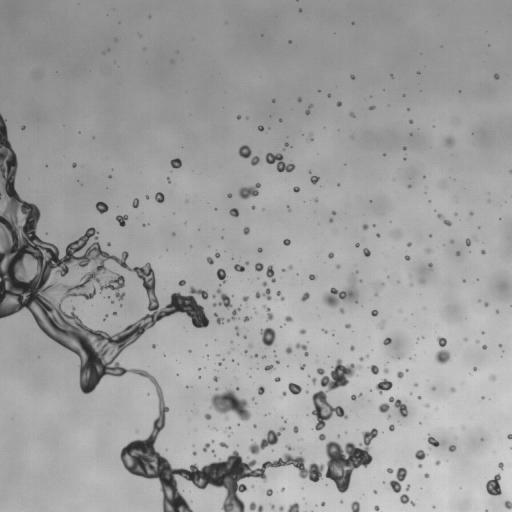droplet: (209, 389, 250, 420), (322, 274, 357, 307), (213, 288, 232, 308), (238, 183, 260, 199), (485, 474, 501, 495), (260, 327, 275, 346), (375, 379, 392, 394), (255, 289, 271, 300), (238, 145, 251, 158), (288, 382, 301, 394), (400, 494, 414, 505), (96, 201, 108, 213), (217, 268, 226, 283), (427, 435, 439, 446), (249, 502, 263, 511), (116, 215, 127, 226), (414, 450, 426, 460), (170, 158, 181, 168), (287, 502, 299, 511), (444, 136, 454, 146), (214, 313, 223, 324), (378, 403, 389, 412), (155, 192, 164, 202), (229, 208, 238, 217), (369, 365, 378, 374), (351, 501, 359, 511), (251, 156, 259, 165), (255, 262, 263, 271), (301, 292, 309, 301), (234, 264, 244, 271), (310, 176, 318, 184), (383, 337, 391, 345), (132, 198, 139, 207), (258, 385, 265, 394), (504, 500, 511, 509), (264, 365, 274, 371), (363, 248, 370, 256), (285, 346, 292, 354), (203, 443, 210, 451), (206, 257, 213, 264), (318, 433, 325, 440), (293, 186, 300, 192), (243, 227, 249, 234), (394, 231, 400, 238), (283, 239, 290, 245), (309, 274, 316, 280), (371, 310, 378, 316), (285, 316, 292, 322), (397, 371, 403, 378), (204, 413, 211, 419), (448, 445, 455, 451), (219, 442, 227, 447), (266, 489, 272, 495), (178, 280, 185, 285), (243, 316, 250, 321), (311, 377, 316, 384), (389, 424, 394, 431), (494, 73, 499, 79), (258, 125, 263, 131), (362, 224, 368, 229), (328, 252, 333, 258), (404, 255, 410, 260), (293, 426, 298, 432), (286, 445, 292, 450), (498, 462, 503, 468), (387, 468, 393, 473), (374, 505, 379, 511), (466, 239, 470, 246), (336, 101, 341, 106), (425, 248, 430, 253), (243, 296, 248, 301), (300, 329, 305, 334), (300, 364, 305, 369), (490, 375, 495, 380), (213, 376, 218, 381), (435, 460, 440, 465), (405, 485, 410, 490), (215, 252, 219, 258), (379, 322, 383, 328), (274, 377, 280, 381), (350, 74, 354, 79), (350, 112, 354, 117), (21, 125, 25, 130), (428, 263, 432, 268), (262, 281, 266, 286), (340, 308, 344, 313), (103, 315, 107, 320), (345, 324, 350, 328), (322, 329, 327, 333), (350, 345, 354, 350), (384, 368, 388, 373), (451, 387, 455, 392), (507, 434, 511, 439), (424, 473, 429, 477), (279, 506, 283, 511), (72, 163, 76, 167), (355, 243, 359, 247), (407, 242, 411, 246), (258, 248, 262, 252), (456, 251, 460, 255), (481, 250, 485, 254), (484, 302, 488, 306), (482, 345, 486, 349), (282, 391, 286, 395), (192, 451, 196, 455), (321, 502, 325, 506), (369, 106, 374, 109), (237, 115, 240, 119), (284, 143, 288, 146), (167, 178, 170, 182), (228, 193, 231, 197), (314, 198, 317, 202), (288, 265, 292, 268), (336, 264, 339, 268), (359, 357, 363, 360), (414, 382, 417, 386), (211, 450, 214, 454), (298, 98, 301, 101), (409, 120, 412, 123), (403, 147, 406, 150), (252, 206, 255, 209), (332, 211, 335, 214), (469, 212, 472, 215), (329, 219, 332, 222), (245, 261, 248, 264), (212, 294, 215, 297), (113, 312, 116, 315), (276, 360, 279, 363), (473, 367, 476, 370), (425, 404, 428, 407), (281, 488, 284, 491), (374, 490, 377, 493), (271, 505, 274, 508), (377, 233, 379, 237), (381, 282, 383, 286), (310, 136, 312, 139), (107, 243, 110, 245), (421, 279, 423, 282), (243, 335, 246, 337), (464, 338, 467, 340), (152, 345, 155, 347), (249, 344, 251, 347), (499, 344, 501, 347), (244, 350, 247, 352), (254, 354, 257, 356), (432, 387, 434, 390), (418, 396, 420, 399), (253, 425, 256, 427), (227, 426, 230, 428), (419, 464, 421, 467), (251, 485, 254, 487), (299, 9, 301, 11), (391, 75, 393, 77), (328, 94, 330, 96), (272, 99, 274, 101), (279, 119, 281, 121), (146, 196, 148, 198), (451, 240, 453, 242), (255, 311, 257, 313), (496, 310, 498, 312), (476, 340, 478, 342), (219, 362, 221, 364), (405, 369, 407, 371), (306, 391, 308, 393), (284, 420, 286, 422)
ligament: (0, 114, 375, 511), (312, 359, 361, 431), (248, 427, 284, 454), (265, 153, 295, 172), (435, 336, 450, 363), (390, 467, 406, 492), (389, 396, 407, 417), (227, 307, 240, 322), (437, 213, 451, 226), (295, 343, 308, 356), (266, 265, 275, 282), (263, 305, 273, 320), (351, 393, 362, 400), (276, 291, 284, 300), (305, 105, 312, 114), (235, 326, 239, 335), (510, 170, 511, 173), (485, 510, 488, 511)
